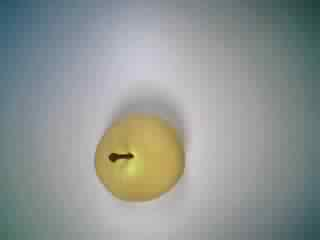pear: (76, 102, 194, 210)
